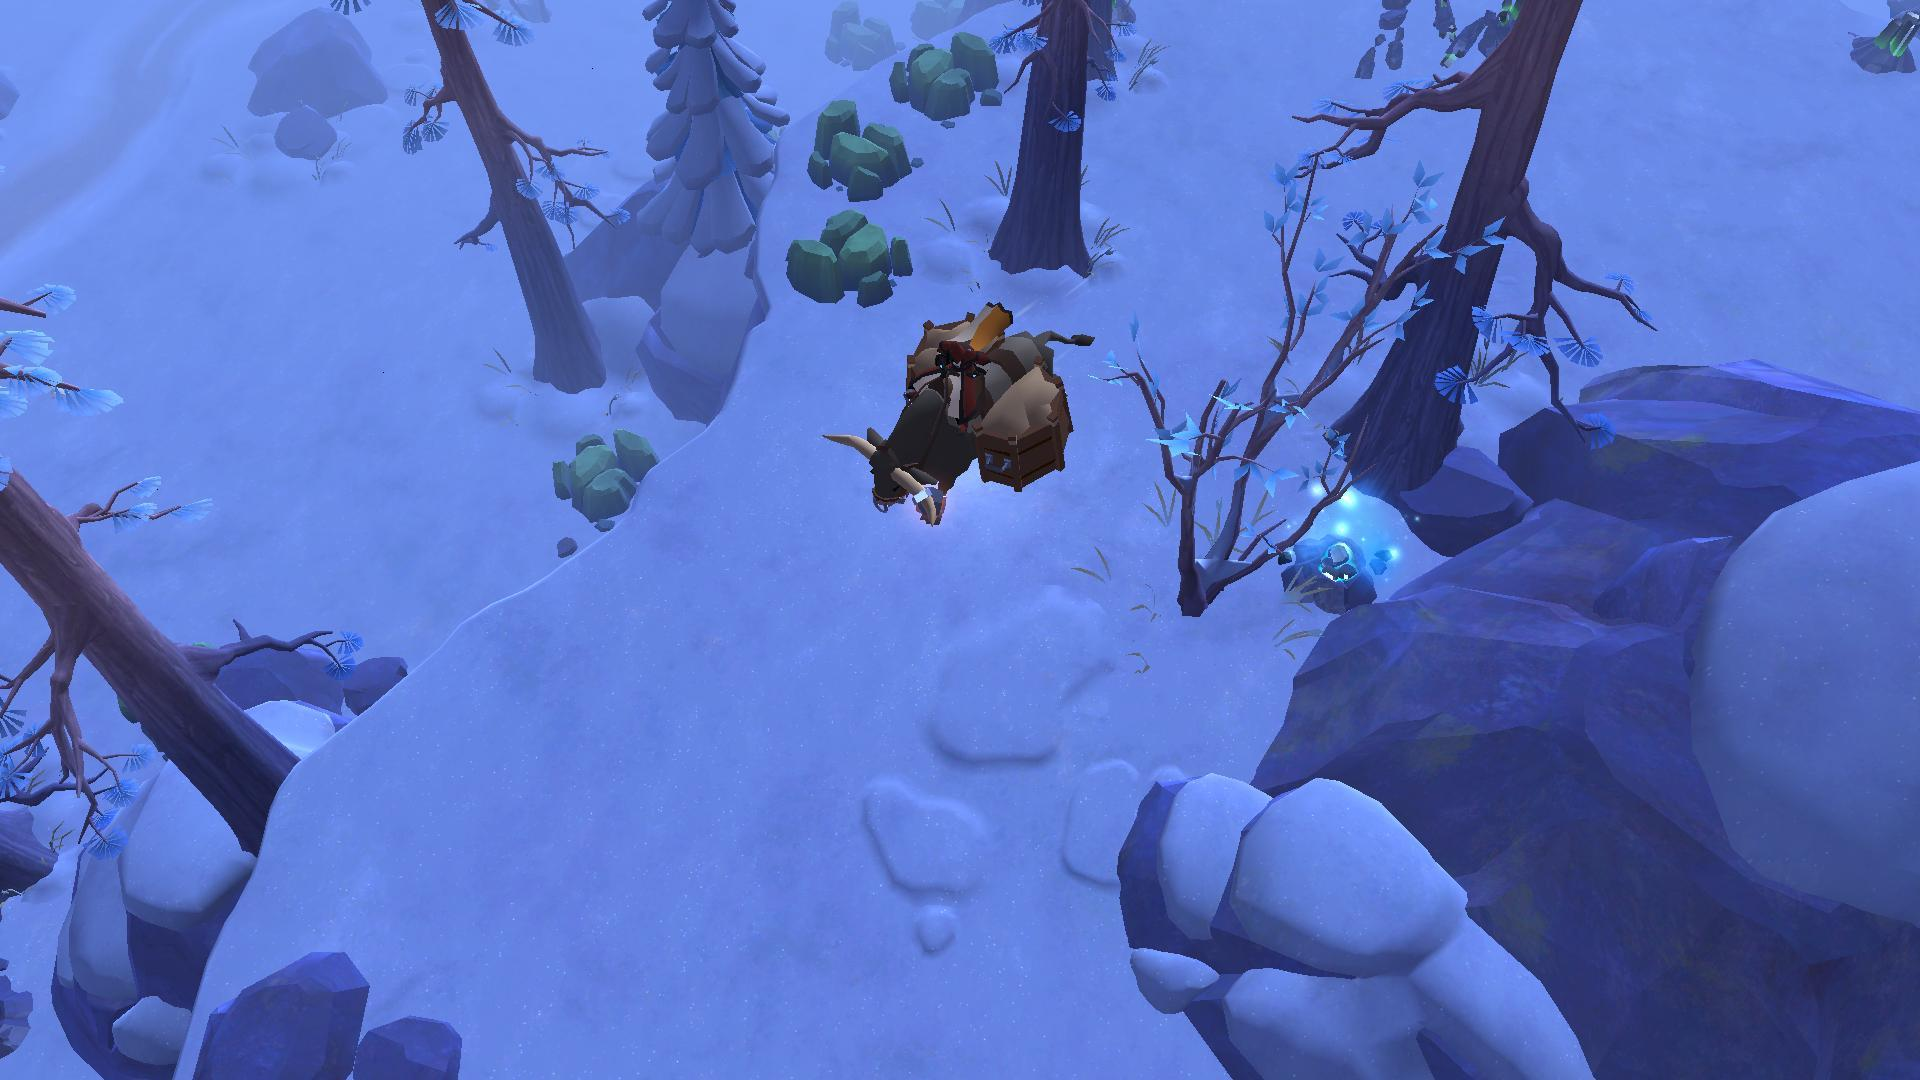rock_t3: (781, 207, 913, 311), (795, 94, 911, 196), (890, 30, 1006, 125), (553, 422, 657, 525)
